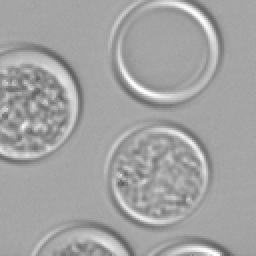picoshell: (108, 0, 222, 104), (104, 120, 210, 226), (0, 44, 80, 160), (30, 220, 132, 254), (152, 240, 226, 254)
